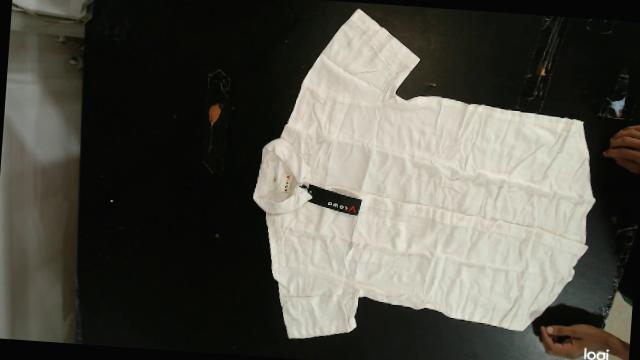new-garment: (253, 9, 594, 337)
